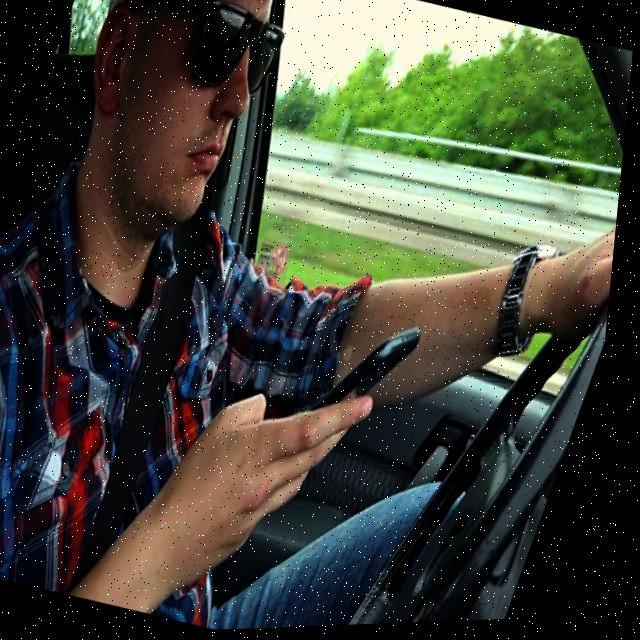PhoneCall: (296, 308, 432, 449)
